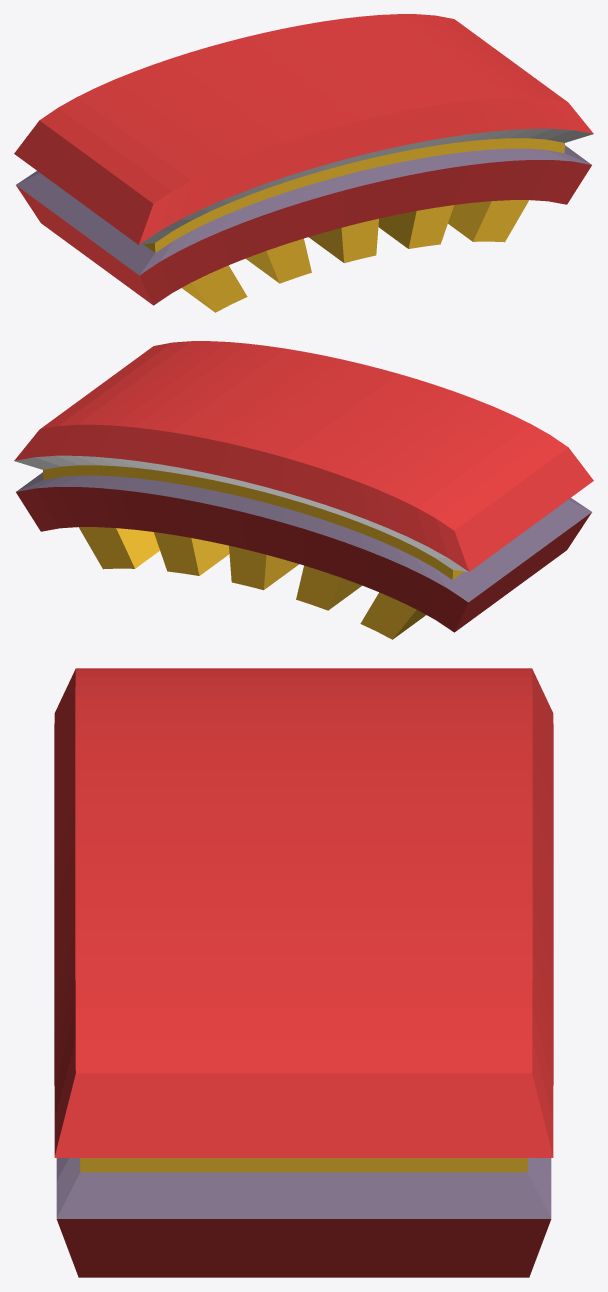
3 renders of one model, top to bottom at view 1: azimuth 30°, elevation 25°; view 2: azimuth 150°, elevation 25°; view 3: azimuth 270°, elevation 25°, orthographic. The views are drawn at different scales.
Visible parts, largest first — view 1: Paddle; view 2: Paddle; view 3: Paddle.
Part boxes in pixels (x1=…): Paddle: x1=14, y1=14, x2=593, y2=312; Paddle: x1=14, y1=341, x2=593, y2=639; Paddle: x1=54, y1=668, x2=553, y2=1277.
Bounding box in the file's own units: 4.36 × 1.44 × 2.07.
